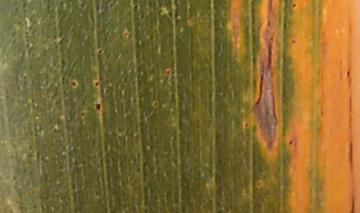tarspot: (94, 103, 101, 112), (152, 100, 159, 107), (97, 49, 104, 55), (243, 121, 249, 128), (291, 38, 297, 45), (292, 1, 297, 9), (123, 31, 128, 38), (288, 139, 293, 146), (71, 81, 77, 86), (94, 81, 100, 86), (166, 69, 171, 75), (81, 111, 85, 116)
